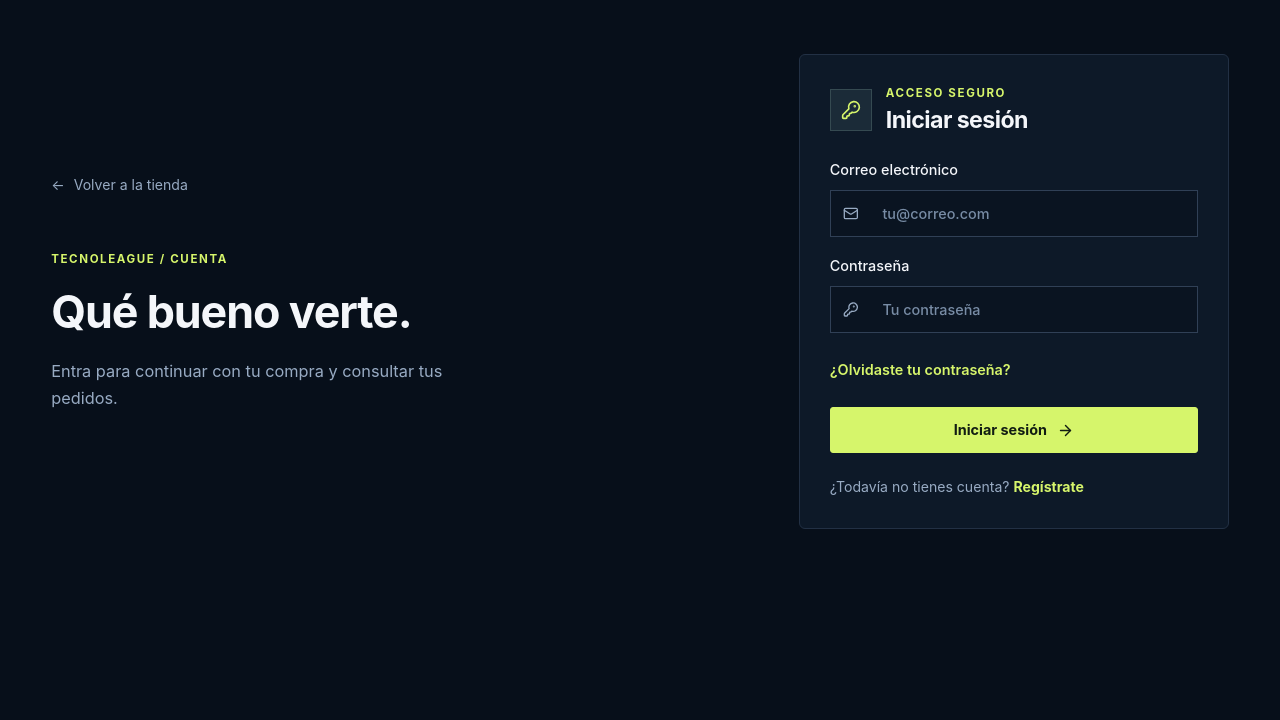
Test case: el enlace de recuperación no envía el formulario de acceso
In the field labelled "Correo electrónico": x=1033, y=214 [868, 191, 1197, 236], type "cliente@example.test"
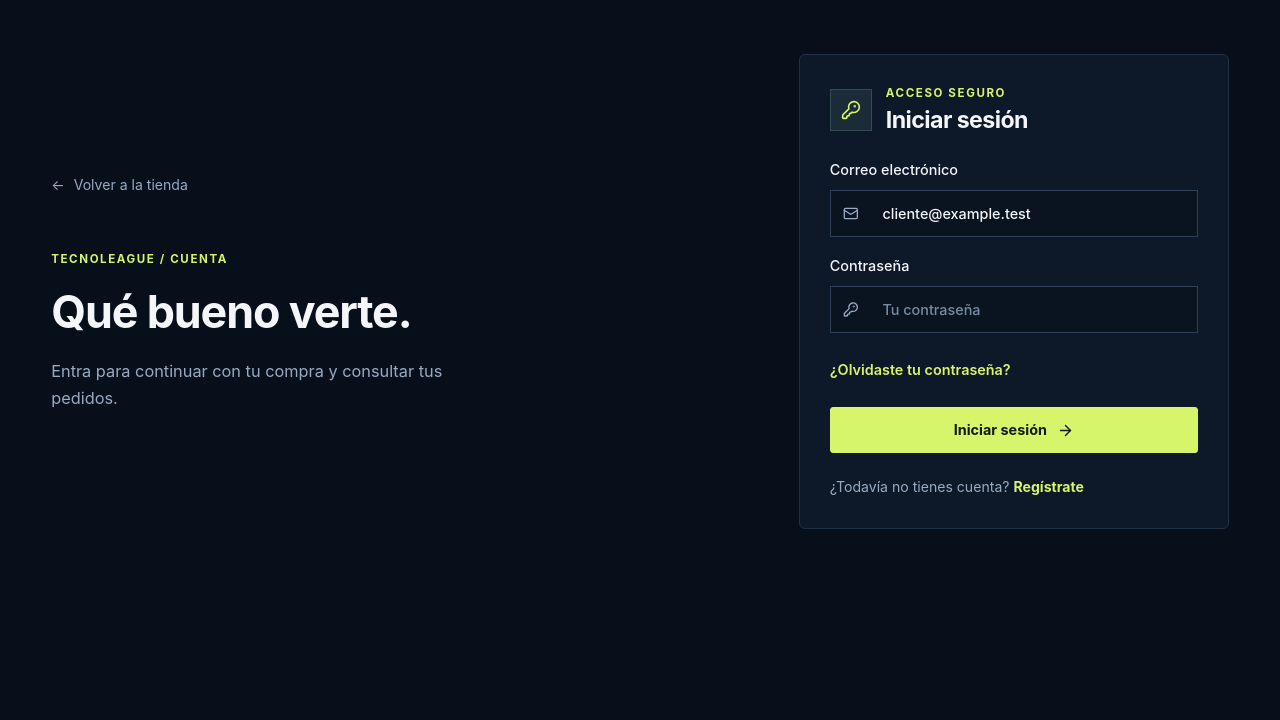
Click the button "¿Olvidaste tu contraseña?": x=920, y=370 [830, 352, 1011, 389]
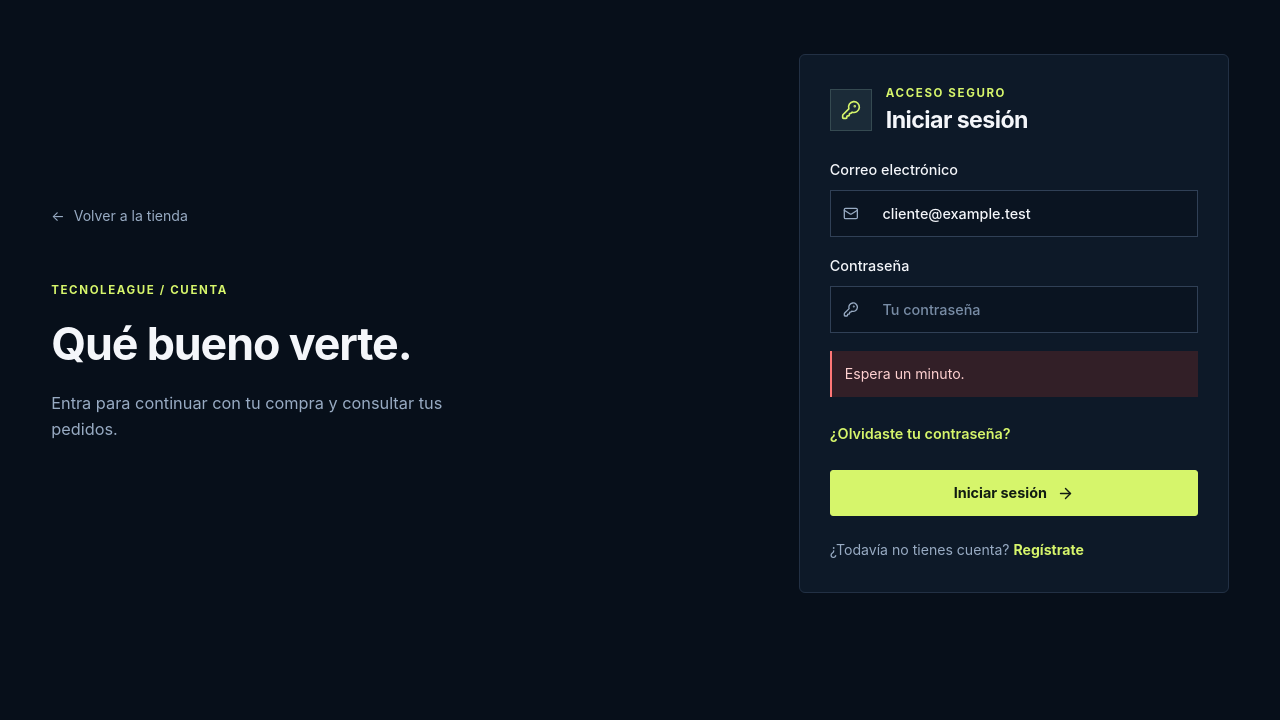
Now the text "Espera un minuto." is shown, box [830, 352, 1198, 397]
